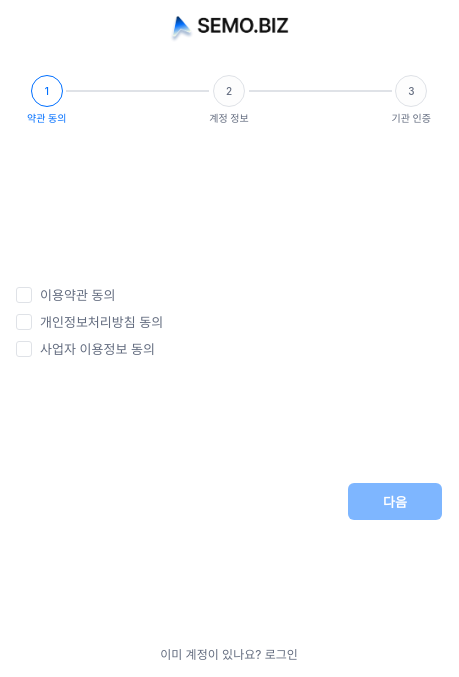
Test case: BizSignupFlow › keeps the next button disabled until all three agreements are checked
The width and height of the screenshot is (459, 677).
Click the checkbox named "이용약관 동의": [24, 294] box [16, 286, 32, 302]
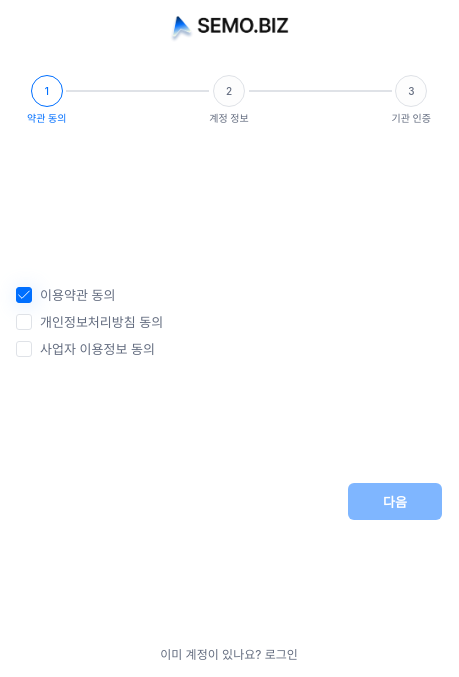
Click the checkbox named "개인정보처리방침 동의": [24, 322] box [16, 314, 32, 330]
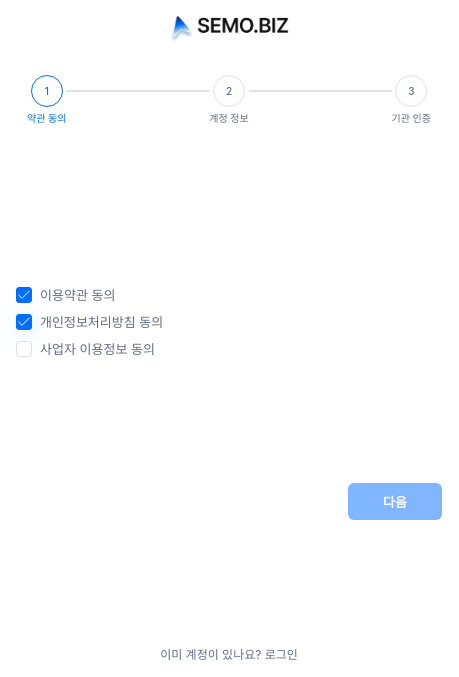
Expected: the button "다음" is disabled, [348, 483, 442, 520]
Click the 3rd checkbox labelled "사업자 이용정보 동의": [86, 348] box [16, 339, 155, 358]
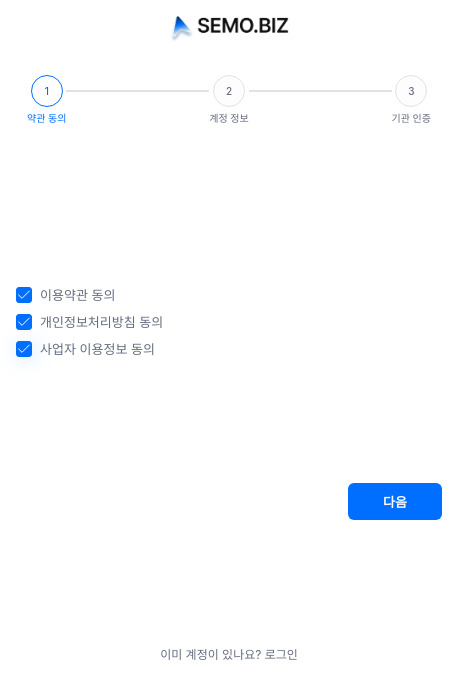
Expected: the button "다음" is enabled, [348, 483, 442, 520]
